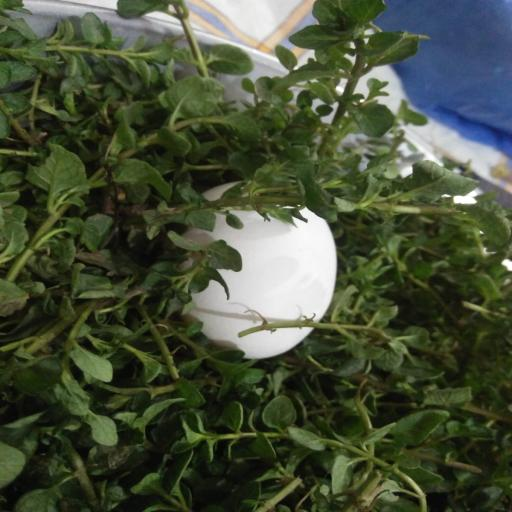telur: (183, 208, 336, 359)
